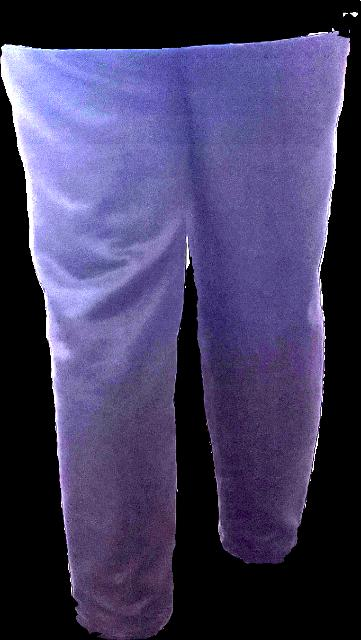blackpants: (0, 29, 349, 639)
